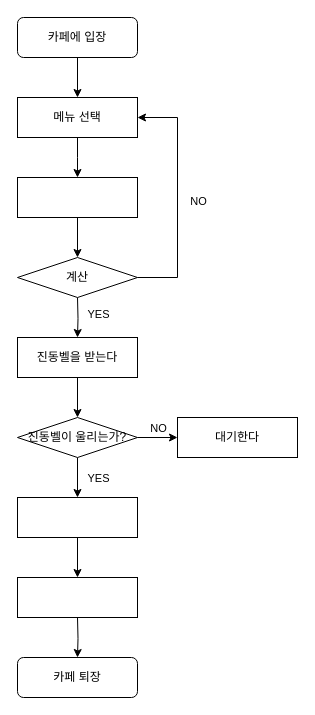
Some shapes in this 315 by 715 pixel diagram are drawn without their labels. The shapes that lost their labels are listed below. From the top down, each one's centre as x and y in pixels, then its label:
At pixel 77 197: "주문".
At pixel 77 517: "진동벨을 반납한다".
At pixel 77 597: "커피를 받는다".
